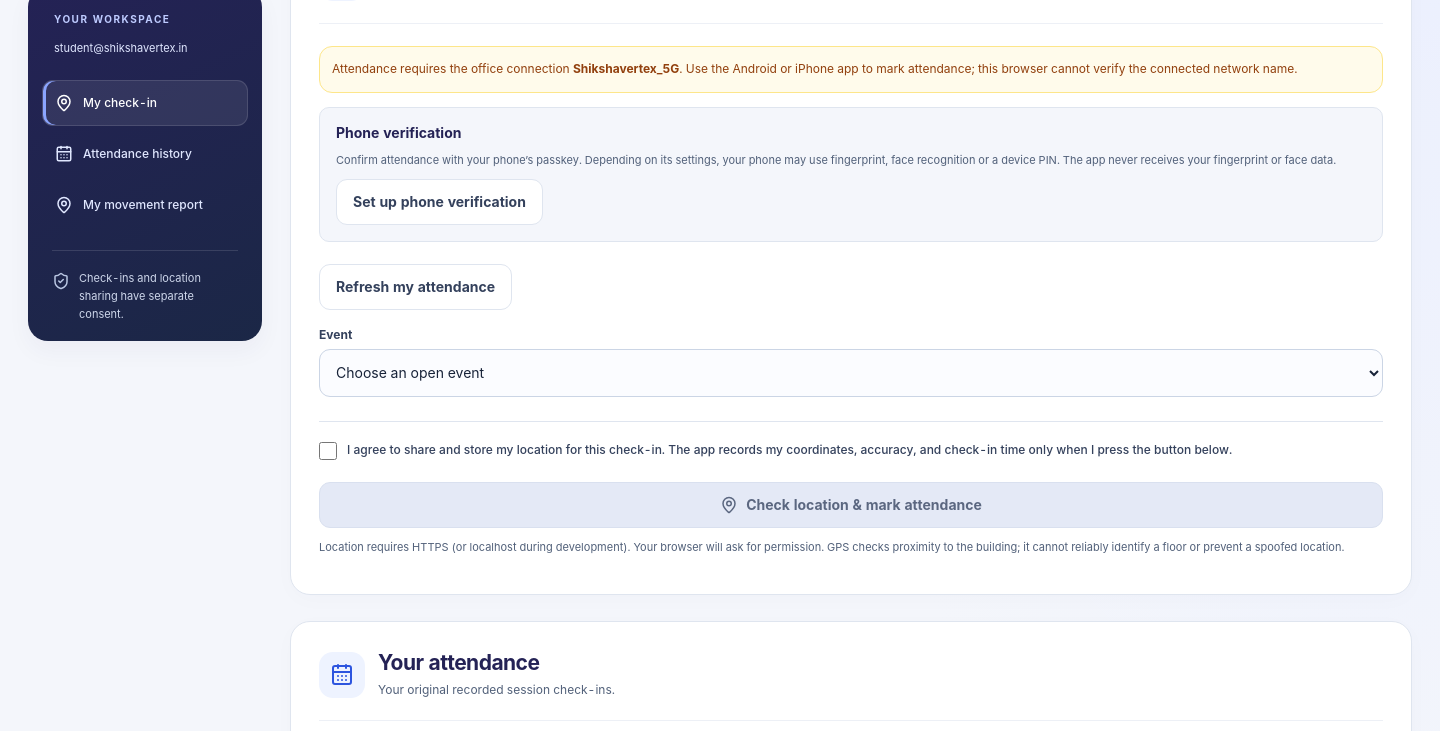
Scenario: enrollment registers a passkey before allowing phone-verified check-in
(page scrolled)
Expected: the button "Set up phone verification" is shown, [336,179,543,225]
Select "Placement workshop · 2026-11-18" in the dropdown labelled "Event": (851, 373) [319,349,1383,397]
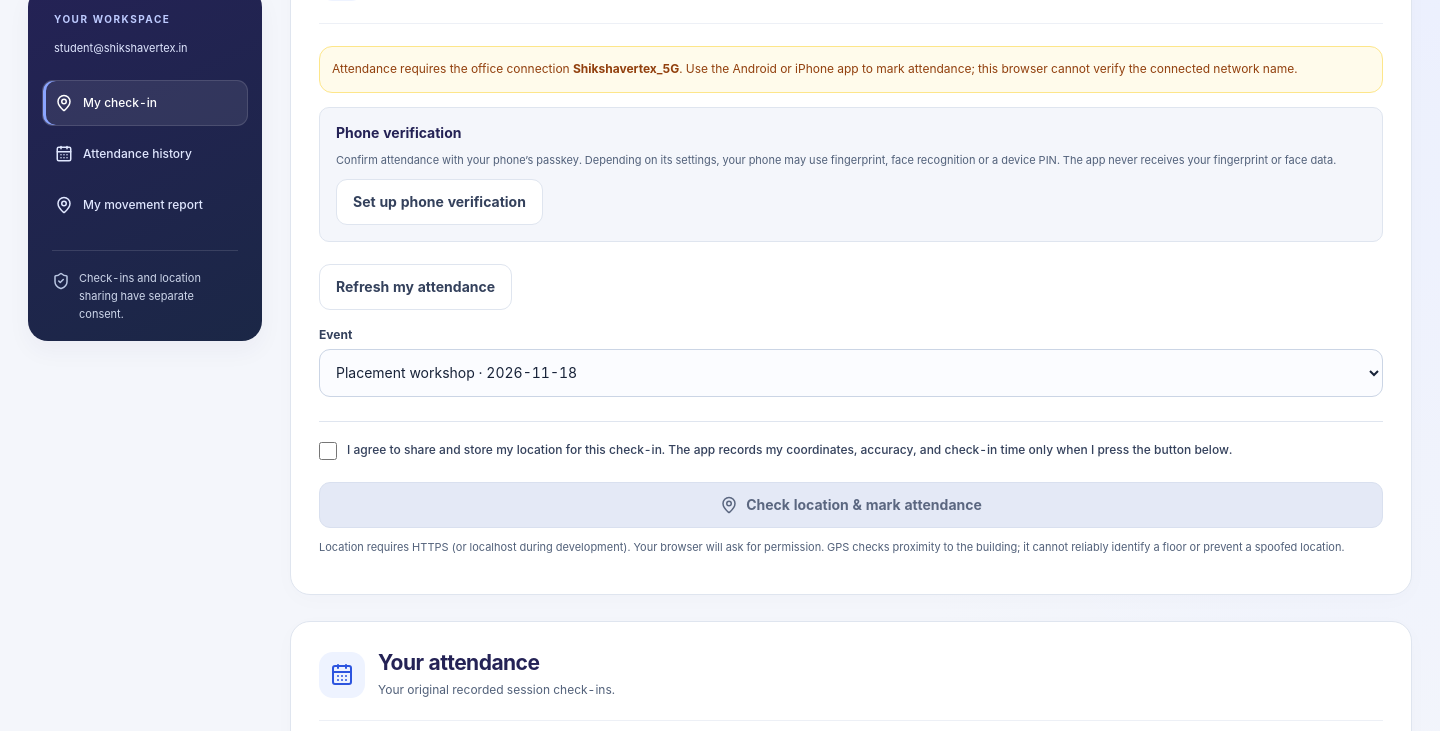
Click the checkbox labelled "I agree to share and store my location": click(328, 451) [319,442,337,460]
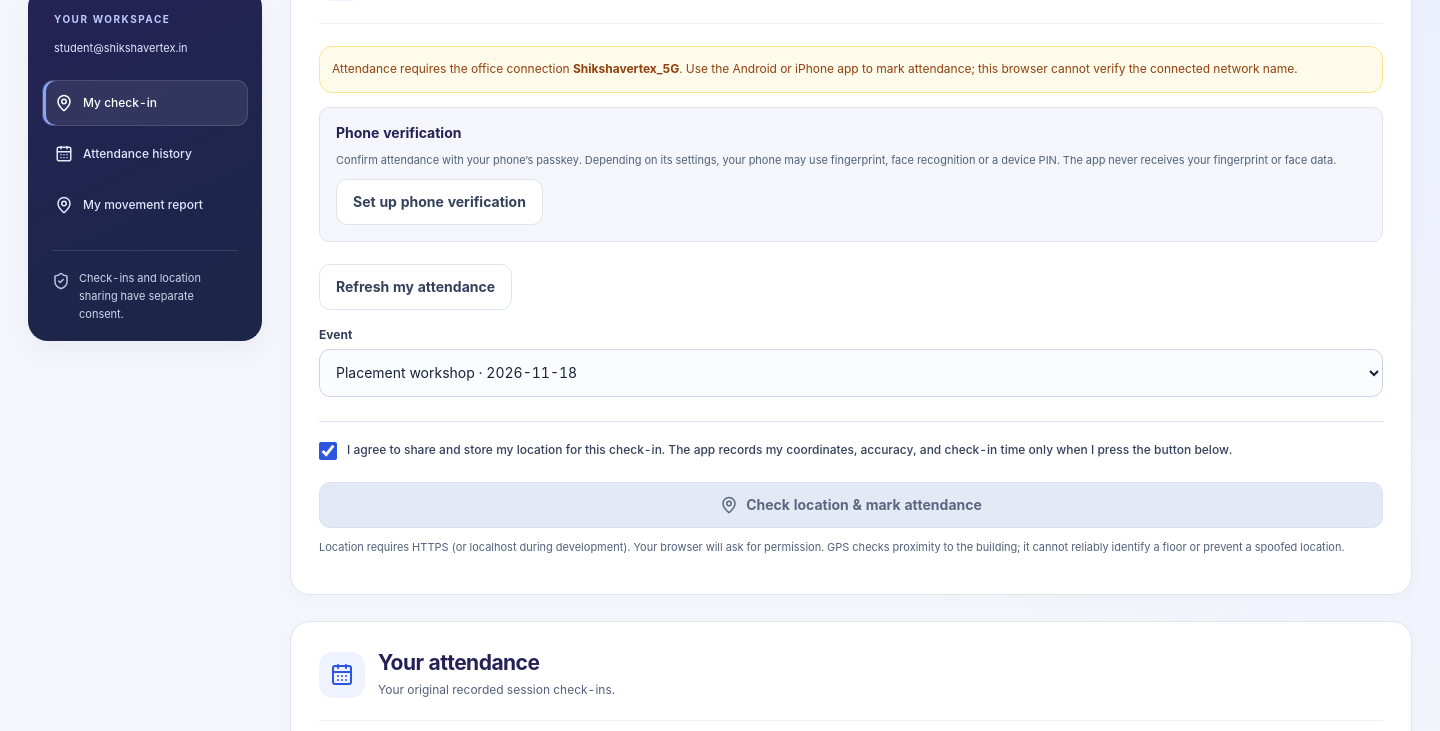
Expected: the button "Check location & mark attendance" is disabled, [319,482,1383,528]
Click the button "Set up phone verification": click(439, 202) [336,179,543,225]
(page scrolled)
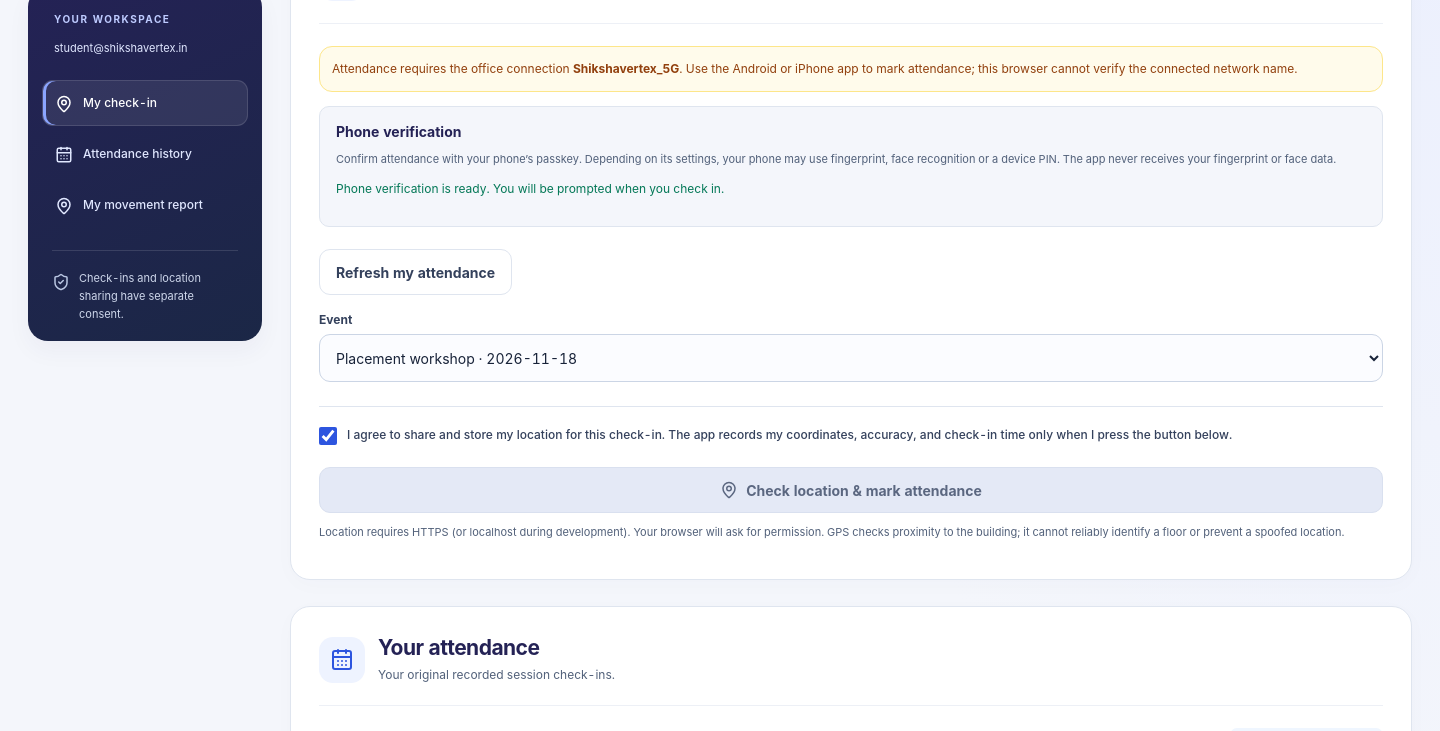
Expected: the text "Phone verification is ready. You will be prompted when you check in." is shown, [336,180,724,196]
